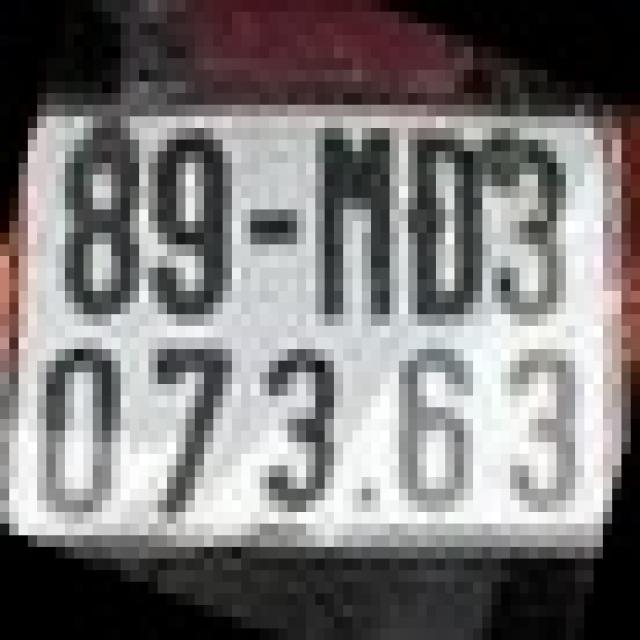0: (37, 337, 121, 512)
3: (492, 128, 566, 326), (260, 337, 343, 512), (500, 349, 584, 512)
6: (390, 337, 473, 512)
7: (148, 337, 232, 512)
8: (56, 116, 140, 314)
9: (148, 116, 232, 326)
B: (408, 128, 482, 326)
D: (408, 128, 482, 326)
M: (310, 116, 394, 326)
